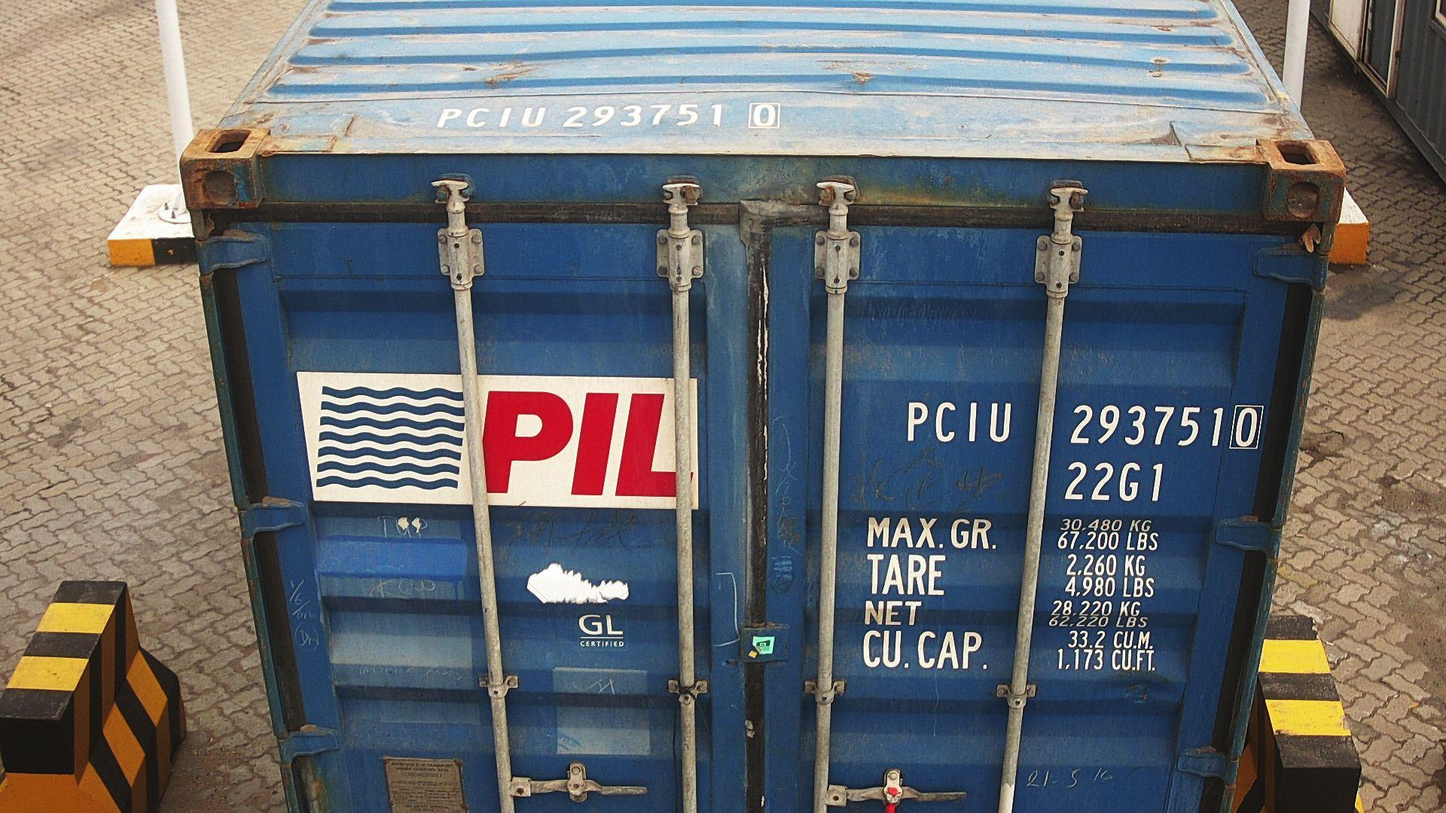container-numbers: (899, 398, 1273, 454), (417, 99, 789, 134), (1062, 460, 1170, 507)
